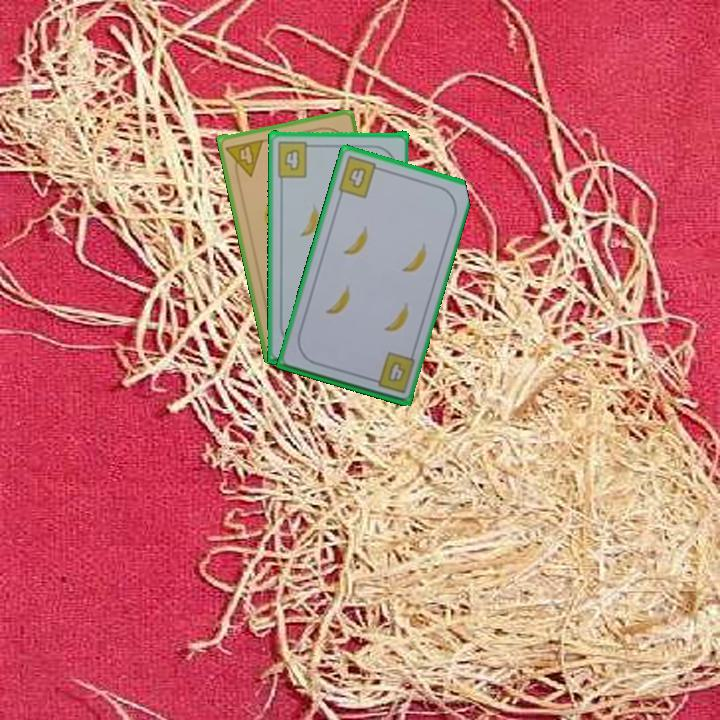4b: (334, 152, 385, 201), (366, 349, 418, 396), (273, 138, 317, 179)
4p: (222, 135, 266, 181)
